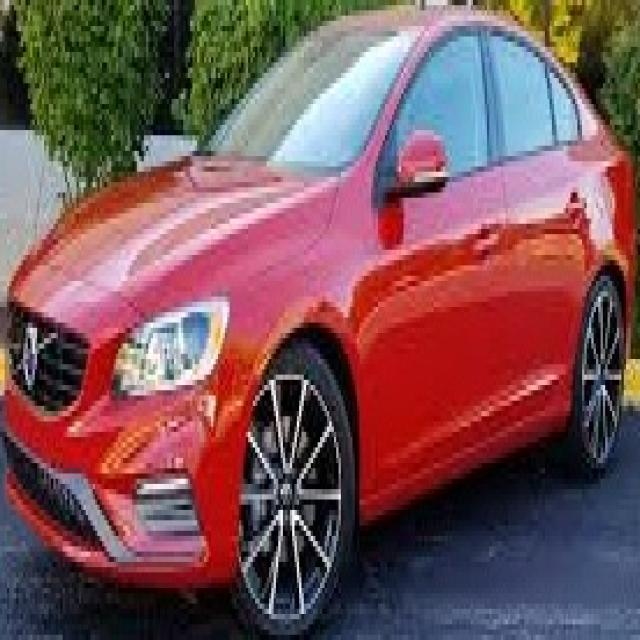red: (9, 16, 640, 582)
